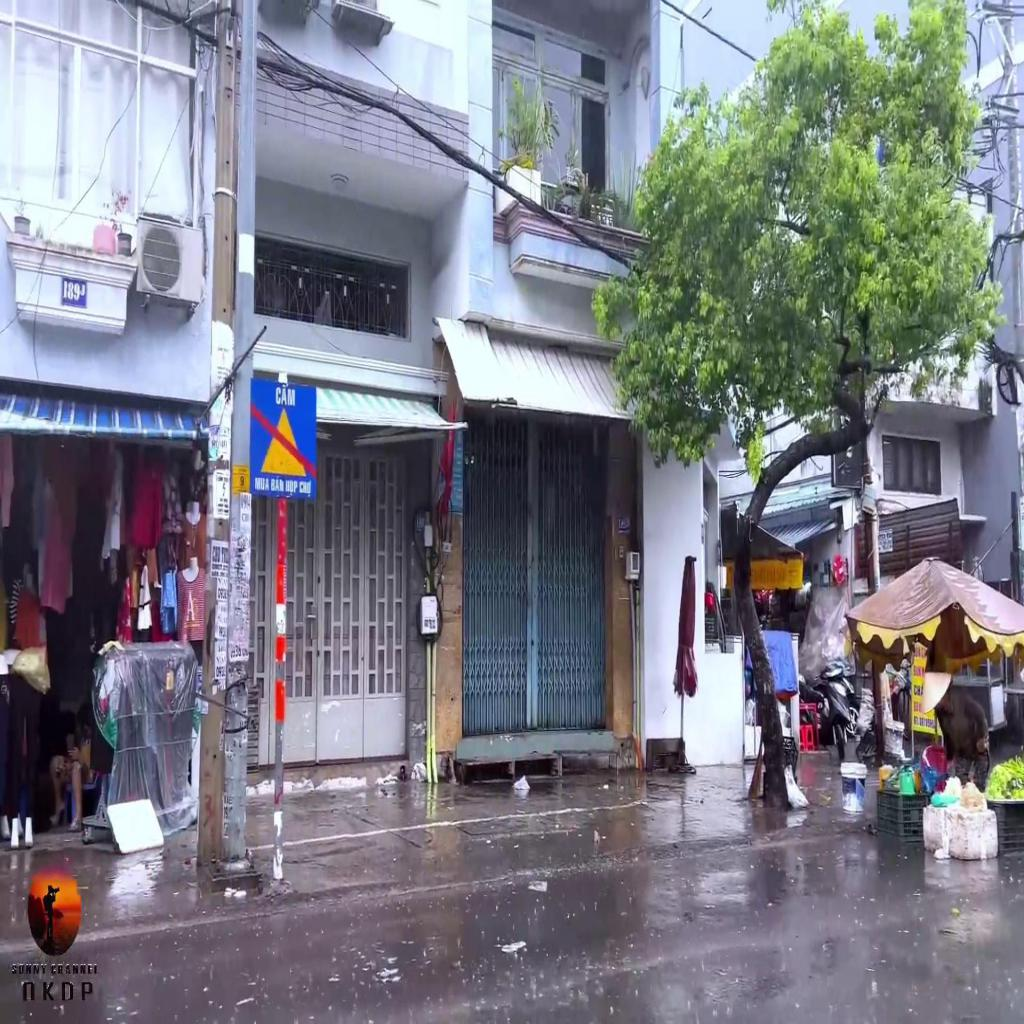khac: (250, 378, 316, 500)
